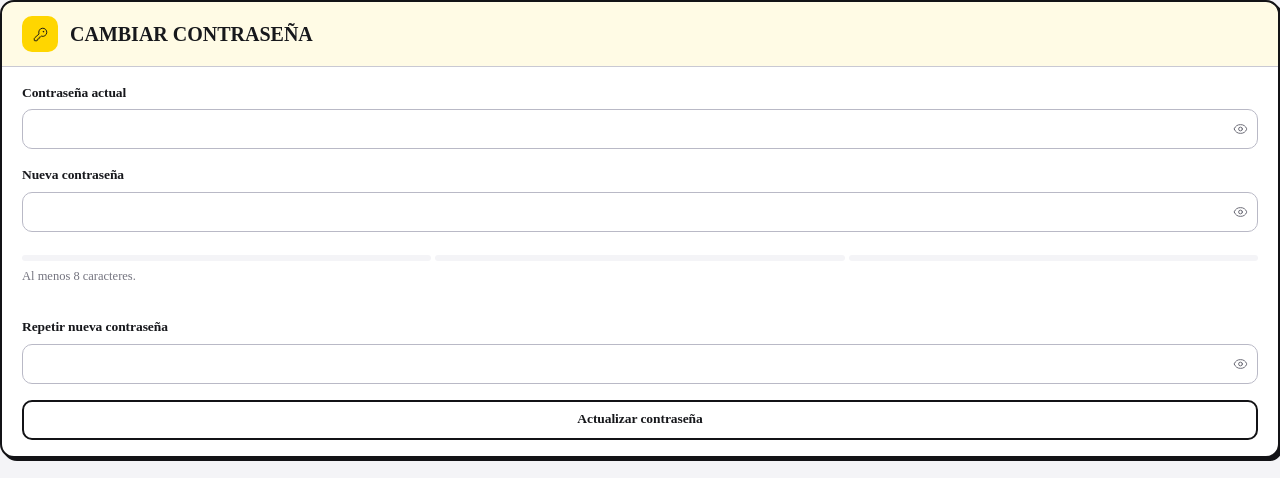
ChangePasswordCard › offers a show/hide toggle and a strength reading on the new password (REG-23)
Click the button named "Mostrar nueva contraseña" at (1240, 212), box top-left (1233, 204), bottom-right (1248, 219)
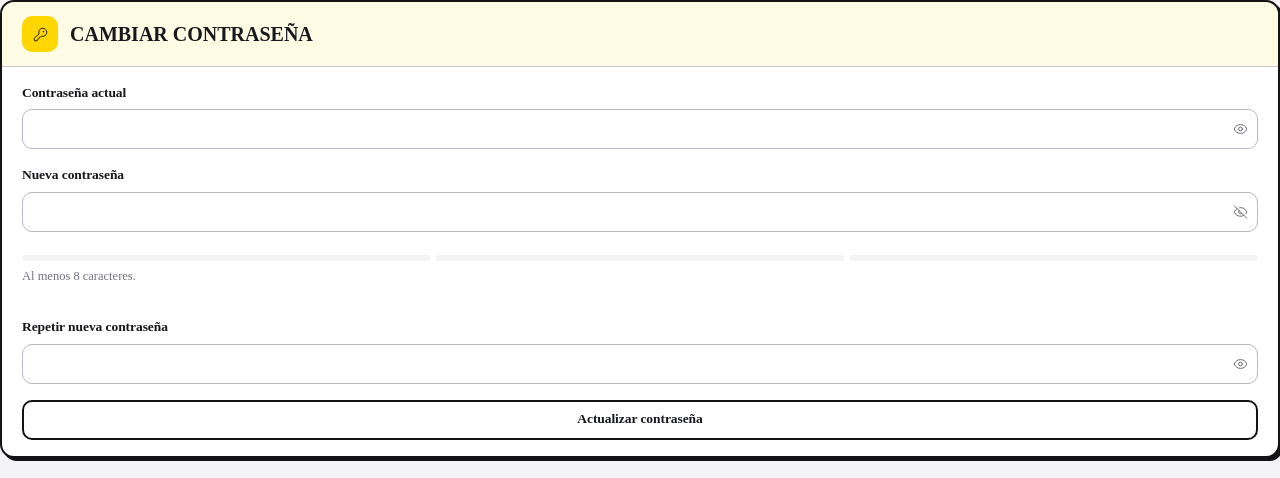
Check: the button named "Ocultar nueva contraseña" is shown, box top-left (1233, 204), bottom-right (1248, 219)
Type "abc" into the field labelled "Nueva contraseña" at (640, 212), box top-left (22, 192), bottom-right (1258, 232)
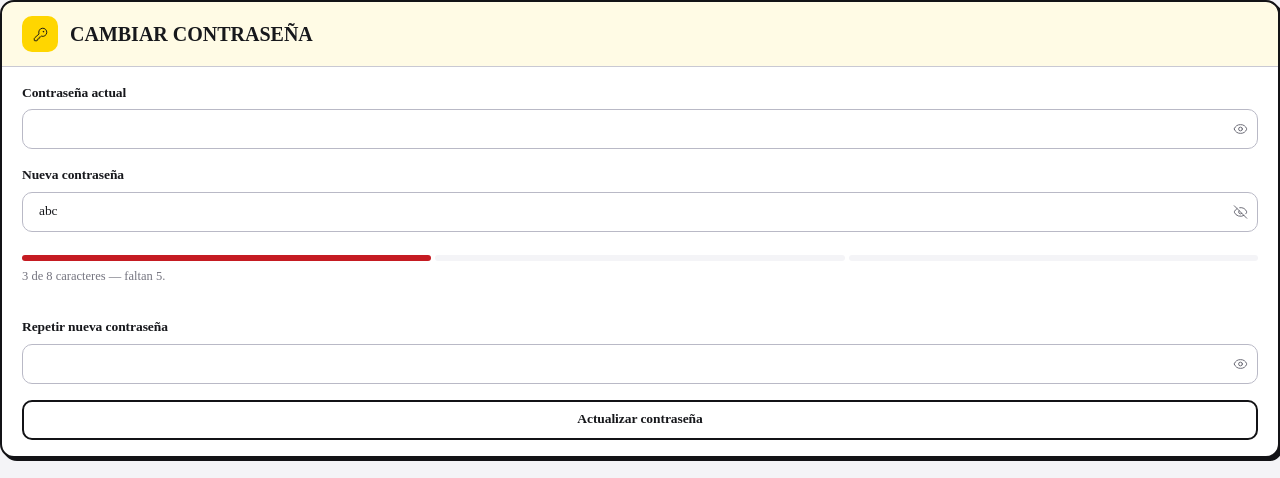
Check: the text "3 de 8 caracteres — faltan 5." is shown, box top-left (22, 268), bottom-right (165, 282)
